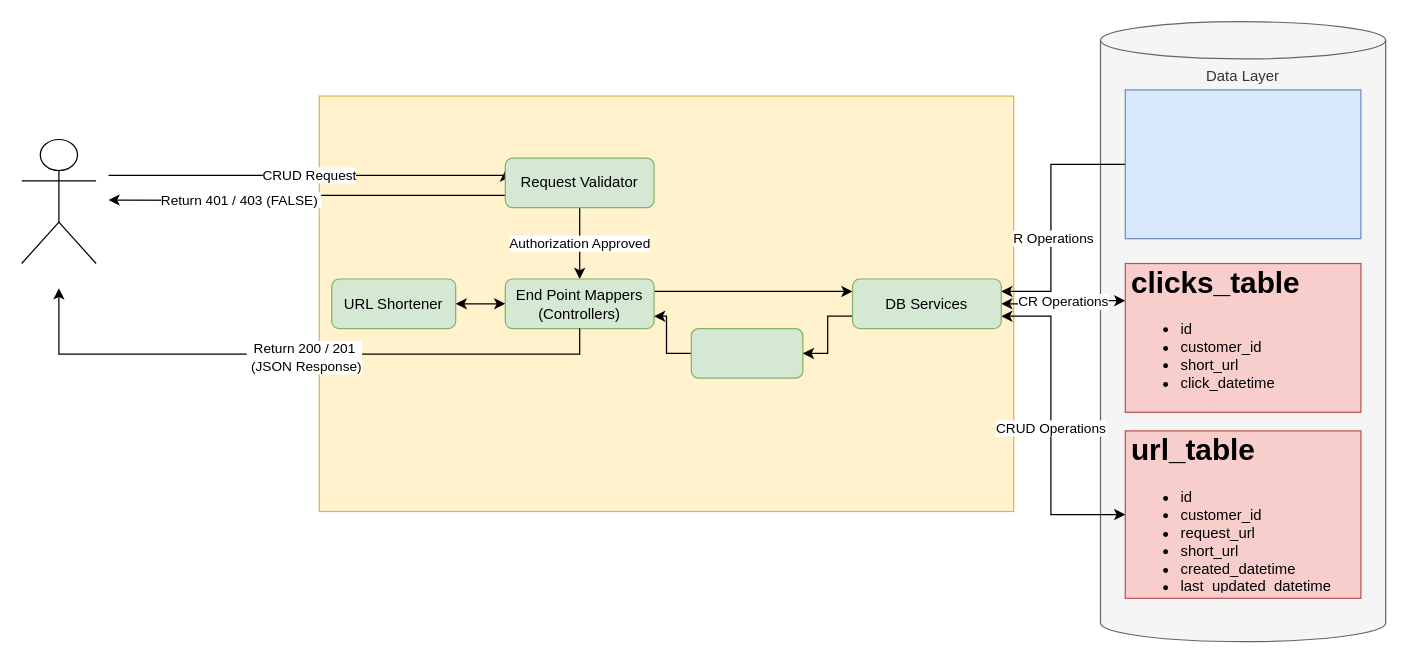
This 1407x663 diagram has some shape labels left out. Here are the shapes that lost their labels. From the top down, the box of each, then its label:
(1124, 89, 1361, 239): customer_table id firstname lastname email registered_datetime
(20, 138, 96, 264): Customer
(318, 95, 1014, 512): Service Layer (API)
(690, 327, 803, 378): Data Mapping (Model)
